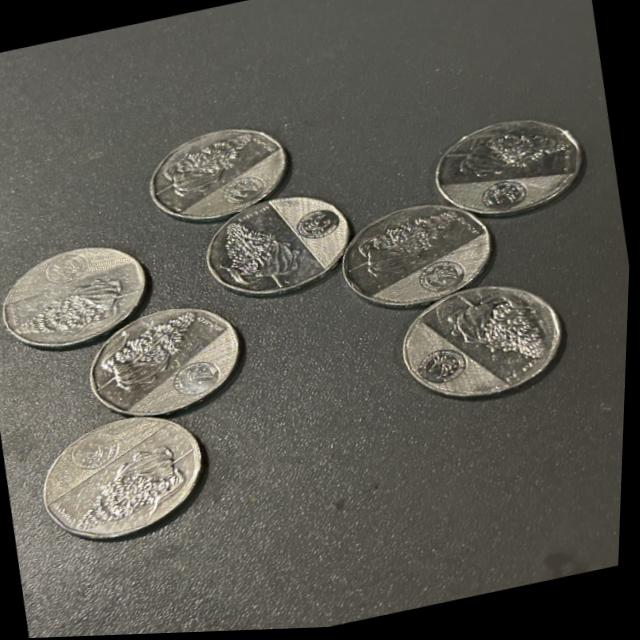10_New_Back: (409, 288, 555, 410), (49, 421, 192, 542), (348, 202, 480, 314), (215, 188, 359, 290), (93, 307, 232, 410), (439, 124, 576, 221), (157, 124, 280, 231)
